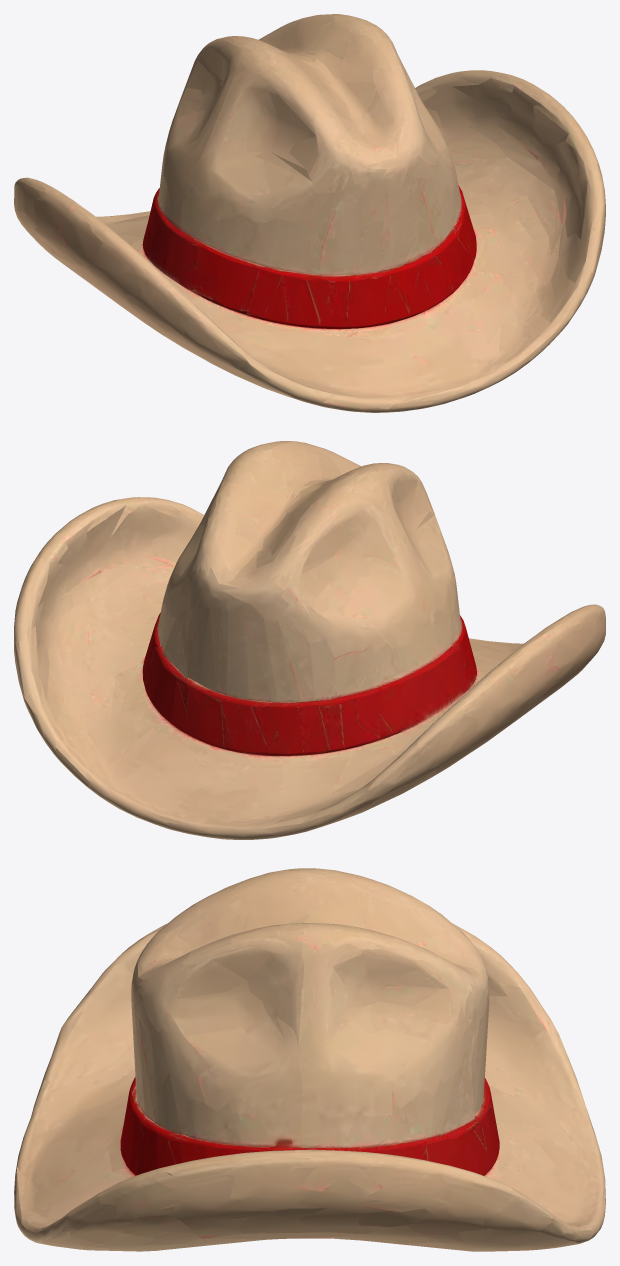
File: cowboy_hat.glb
3 renders of one model, top to bottom at view 1: azimuth 30°, elevation 25°; view 2: azimuth 150°, elevation 25°; view 3: azimuth 270°, elevation 25°, orthographic. The views are drawn at different scales.
Bounding box in the file's own units: 1.9 × 1.01 × 1.75.
Materials: 1 (1 with a texture image).
